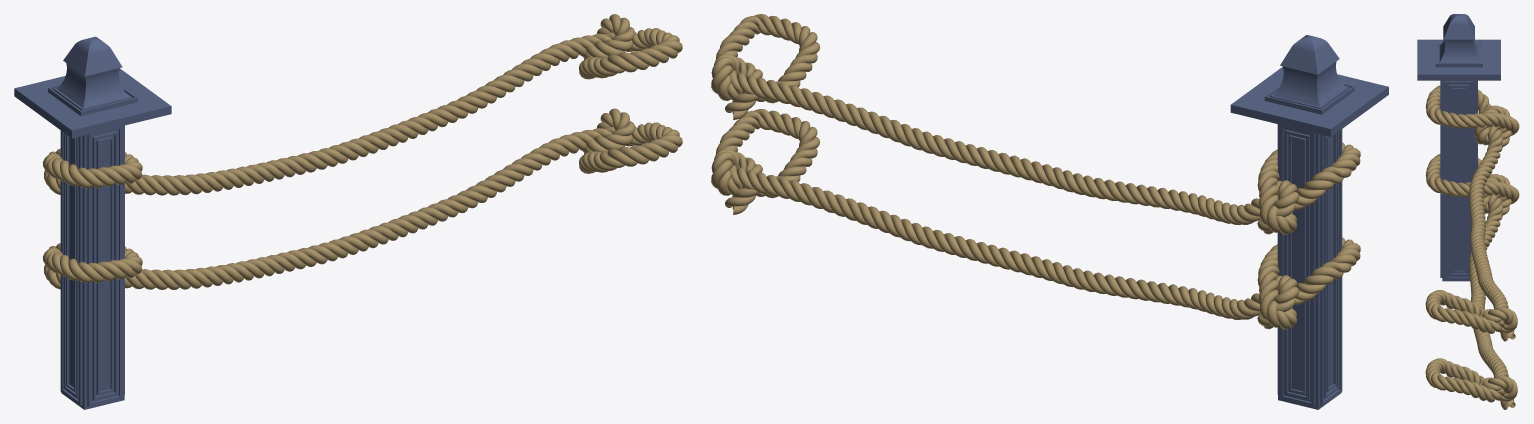
Rendered from çit ve ip.fbx.
3 renders of one model, left to right at view 1: azimuth 30°, elevation 25°; view 2: azimuth 150°, elevation 25°; view 3: azimuth 270°, elevation 25°, orthographic. The views are drawn at different scales.
Visible parts, largest first — view 1: Plane, Circle, Circle.001; view 2: Plane, Circle, Circle.001; view 3: Plane, Circle, Circle.001.
Boxes of the visible parts, <box> form: Plane: <box>14,36,171,409</box>; Circle: <box>42,14,682,195</box>; Circle.001: <box>42,108,682,289</box>; Plane: <box>1230,35,1388,409</box>; Circle: <box>711,14,1360,234</box>; Circle.001: <box>711,109,1360,329</box>; Plane: <box>1417,14,1500,281</box>; Circle: <box>1425,85,1519,341</box>; Circle.001: <box>1425,154,1519,409</box>.
Bounding box in the file's own units: 1172 × 639 × 228.
